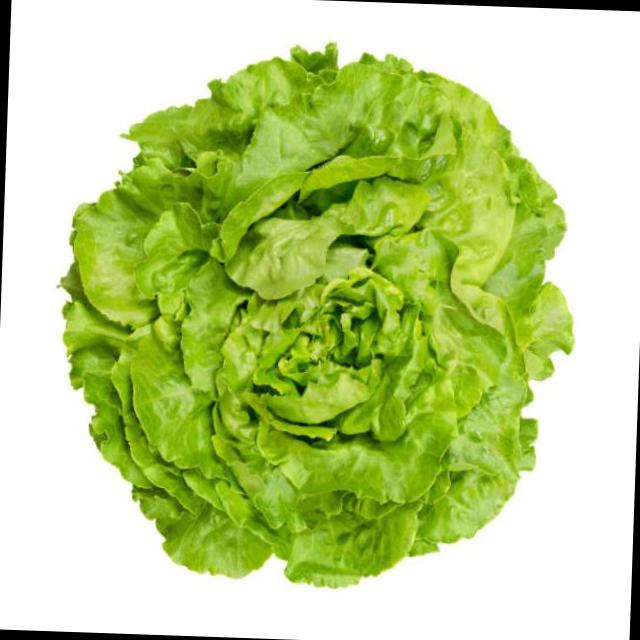Lettuce-Ready-to-Harvest: (62, 48, 570, 585)
